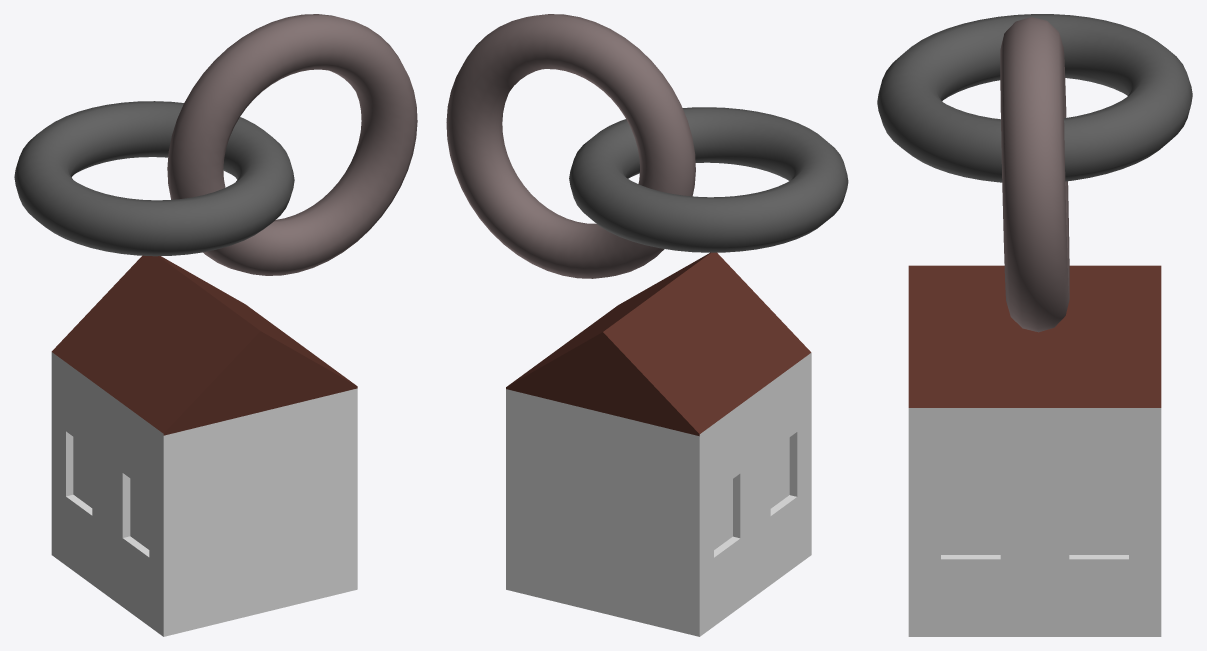
The model's file is church w_rings.fbx.
The picture shows the model from 3 angles, left to right: view 1: azimuth 30°, elevation 25°; view 2: azimuth 150°, elevation 25°; view 3: azimuth 270°, elevation 25°; orthographic projection. The views are drawn at different scales.
Visible parts, largest first — view 1: Cube, Torus.001, Torus; view 2: Cube, Torus.001, Torus; view 3: Cube, Torus, Torus.001.
Boxes of the visible parts, bbox=[...] form: Cube: bbox=[51, 255, 357, 636]; Torus.001: bbox=[167, 14, 417, 275]; Torus: bbox=[14, 101, 294, 256]; Cube: bbox=[506, 252, 811, 636]; Torus.001: bbox=[446, 14, 695, 278]; Torus: bbox=[569, 107, 848, 252]; Cube: bbox=[908, 265, 1161, 636]; Torus: bbox=[877, 14, 1192, 182]; Torus.001: bbox=[1000, 17, 1069, 332].
Bounding box in the file's own units: 392 × 524 × 250.
